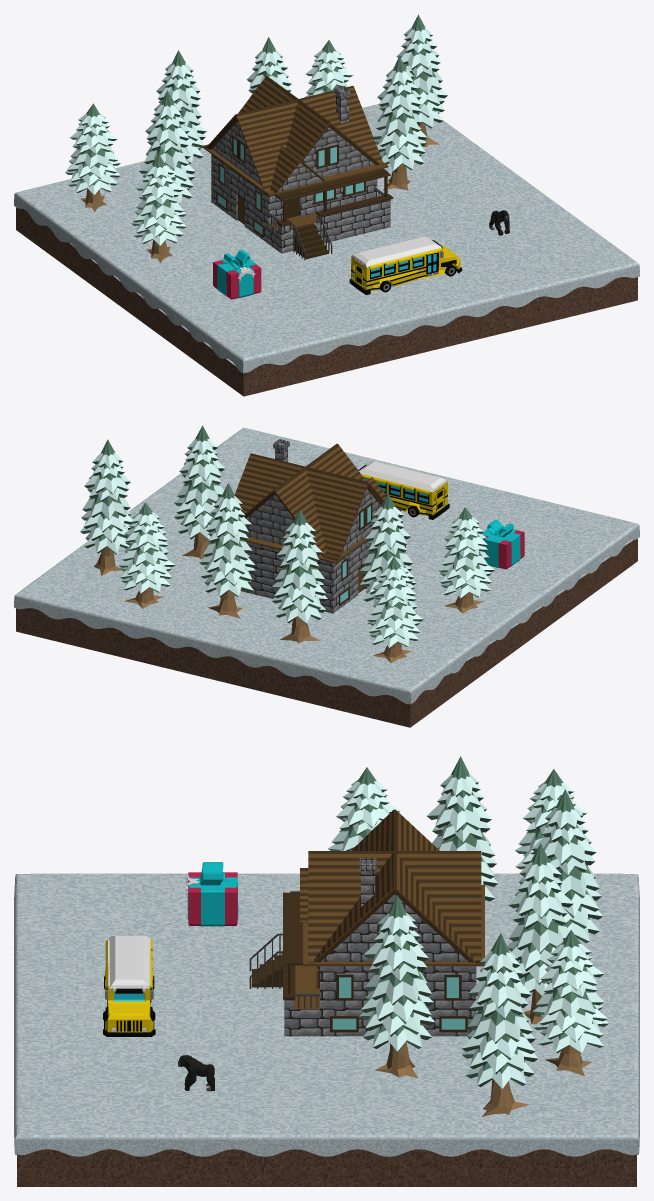
3 views of the same model, one above another, from view 1: azimuth 30°, elevation 25°; view 2: azimuth 150°, elevation 25°; view 3: azimuth 270°, elevation 25° (orthographic). The views are drawn at different scales.
Parts seen in each view (by area): view 1: Cube.003, Cube.586, VEHICLES_SCHOOL_BUS, OBJRANDOM_GIANT_PRESENT; view 2: Cube.003, Cube.586, VEHICLES_SCHOOL_BUS, OBJRANDOM_GIANT_PRESENT; view 3: Cube.003, Cube.586, VEHICLES_SCHOOL_BUS, OBJRANDOM_GIANT_PRESENT, ANIMAL_GORILA.
Boxes of the visible parts, x1=… form: Cube.003: x1=14, y1=14, x2=639, y2=396; Cube.586: x1=202, y1=76, x2=393, y2=260; VEHICLES_SCHOOL_BUS: x1=349, y1=236, x2=462, y2=294; OBJRANDOM_GIANT_PRESENT: x1=213, y1=249, x2=261, y2=299; Cube.003: x1=14, y1=425, x2=639, y2=727; Cube.586: x1=234, y1=439, x2=405, y2=613; VEHICLES_SCHOOL_BUS: x1=358, y1=461, x2=449, y2=519; OBJRANDOM_GIANT_PRESENT: x1=482, y1=519, x2=524, y2=569; Cube.003: x1=14, y1=756, x2=639, y2=1186; Cube.586: x1=249, y1=809, x2=484, y2=1036; VEHICLES_SCHOOL_BUS: x1=103, y1=936, x2=155, y2=1036; OBJRANDOM_GIANT_PRESENT: x1=186, y1=862, x2=238, y2=926; ANIMAL_GORILA: x1=178, y1=1055, x2=214, y2=1091.
Size of the model in its own units: 4040 by 1642 by 4040.
29 materials, 5 textured.
